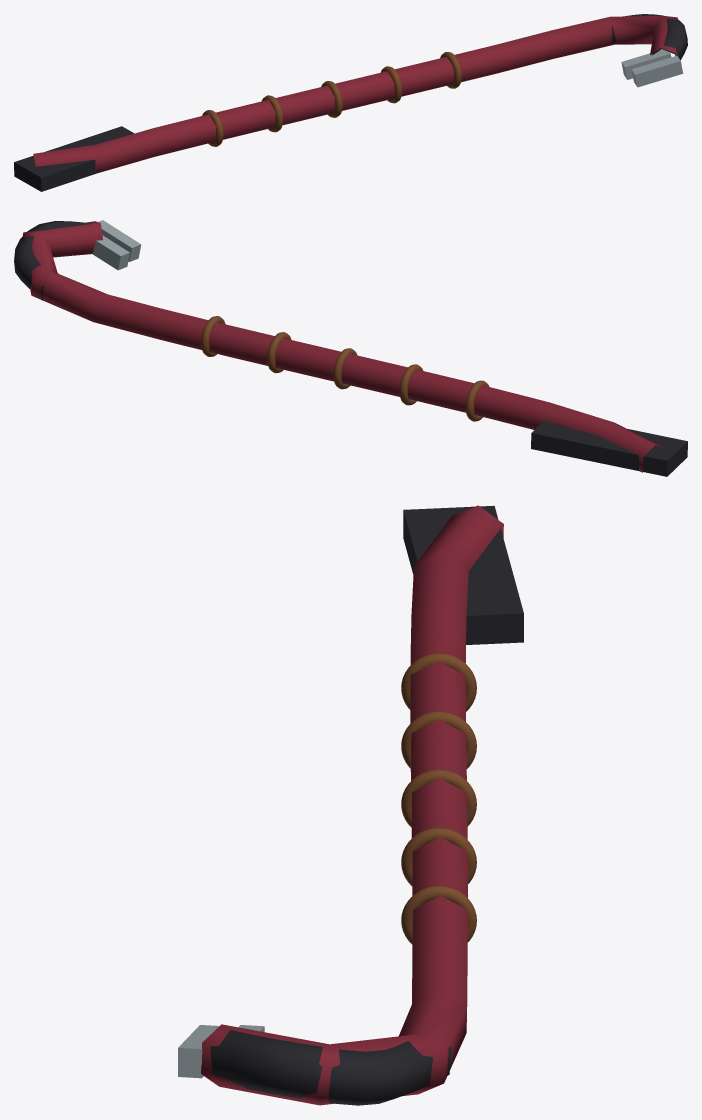
File: mia-crowbar.glb
3 views of the same model, one above another, from view 1: azimuth 30°, elevation 25°; view 2: azimuth 150°, elevation 25°; view 3: azimuth 270°, elevation 25° (orthographic). The views are drawn at different scales.
Parts seen in each view (by area): view 1: Body_velvet, Body_iron, Body_rust, Body_steel; view 2: Body_velvet, Body_iron, Body_rust, Body_steel; view 3: Body_velvet, Body_iron, Body_rust, Body_steel.
Part boxes in pixels (x1,y1,x2,y2): Body_velvet: (33,16,678,172); Body_iron: (14,14,687,191); Body_rust: (202,52,461,146); Body_steel: (621,49,683,87); Body_velvet: (23,221,665,472); Body_iron: (14,221,687,476); Body_rust: (201,316,489,421); Body_steel: (92,220,141,270); Body_velvet: (201,505,503,1105); Body_iron: (210,505,523,1105); Body_rust: (401,653,476,944); Body_steel: (178,1025,264,1078).
Size of the model in its own units: 0.8184 by 0.0616 by 0.1963.
